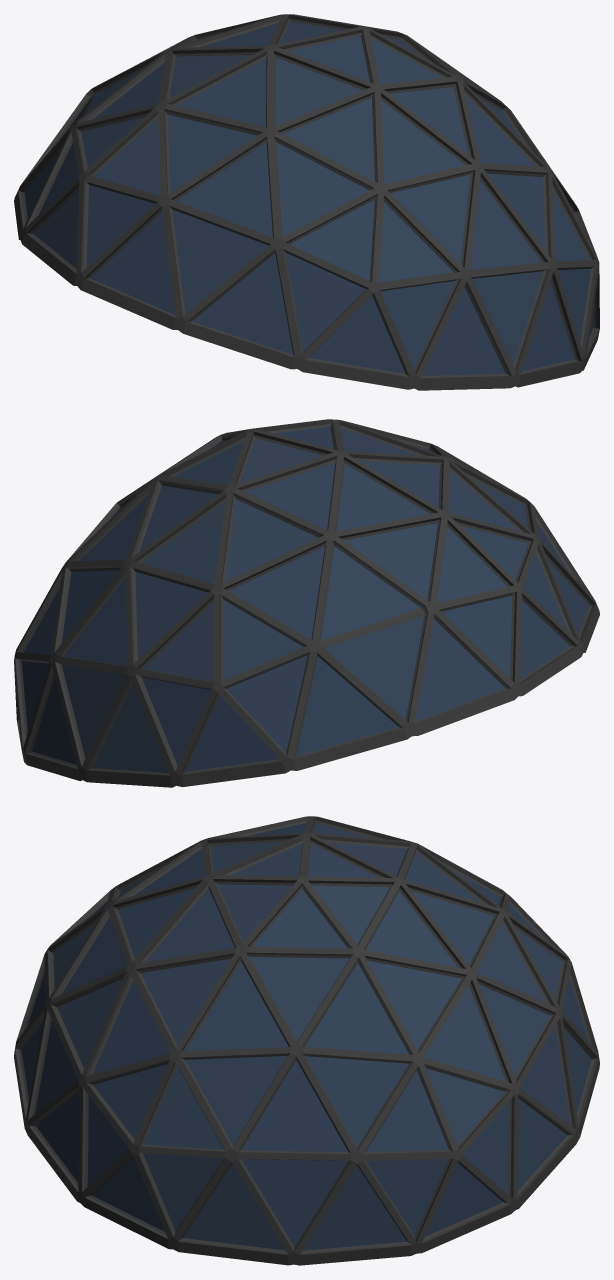
Rendered from Geodesk_Dome.fbx.
The picture shows the model from 3 angles, top to bottom: view 1: azimuth 30°, elevation 25°; view 2: azimuth 150°, elevation 25°; view 3: azimuth 270°, elevation 25°; orthographic projection. The views are drawn at different scales.
Parts seen in each view (by area): view 1: Geodesk_Dome; view 2: Geodesk_Dome; view 3: Geodesk_Dome.
Boxes of the visible parts, <box> form: Geodesk_Dome: <box>14,14,599,390</box>; Geodesk_Dome: <box>14,419,599,787</box>; Geodesk_Dome: <box>14,816,599,1265</box>.
Size of the model in its own units: 73.68 by 42.91 by 76.43.
